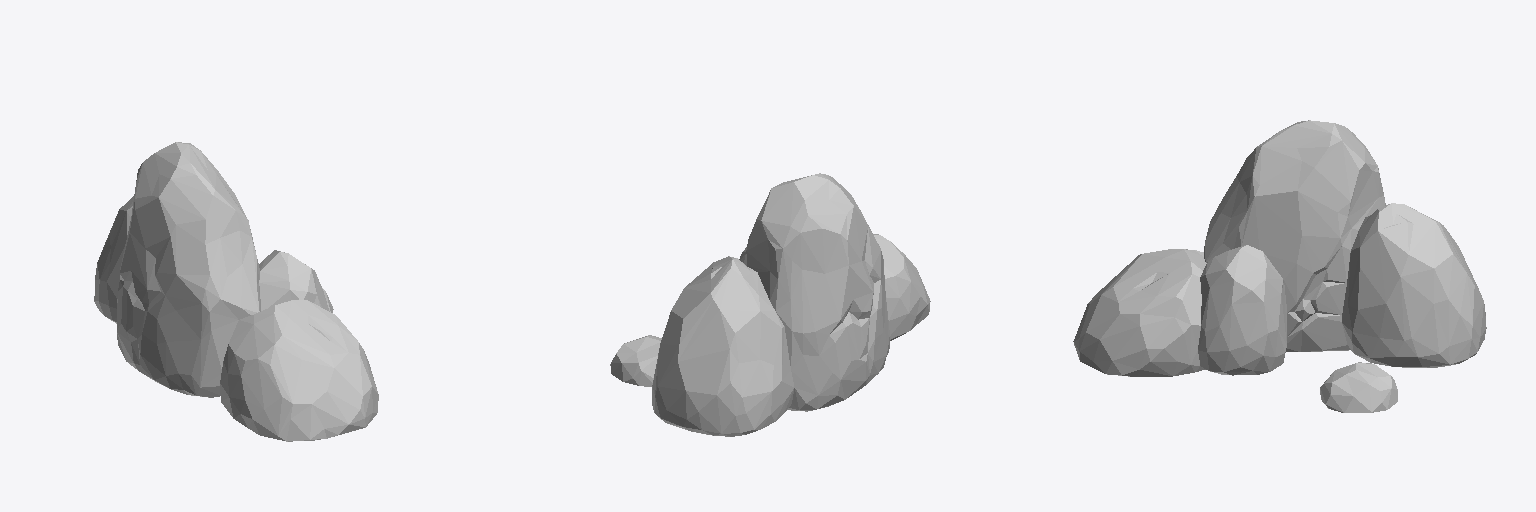
Rendered from desert.obj.
3 renders of one model, left to right at view 1: azimuth 30°, elevation 25°; view 2: azimuth 150°, elevation 25°; view 3: azimuth 270°, elevation 25°, orthographic.
Parts seen in each view (by area): view 1: TCE_Rocks_v04_LP:Group11816; view 2: TCE_Rocks_v04_LP:Group11816; view 3: TCE_Rocks_v04_LP:Group11816.
Part boxes in pixels (x1,y1,x2,y2): TCE_Rocks_v04_LP:Group11816: (94, 142, 378, 441); TCE_Rocks_v04_LP:Group11816: (610, 173, 930, 436); TCE_Rocks_v04_LP:Group11816: (1073, 120, 1486, 412).
Size of the model in its own units: 1.25 by 1.14 by 2.